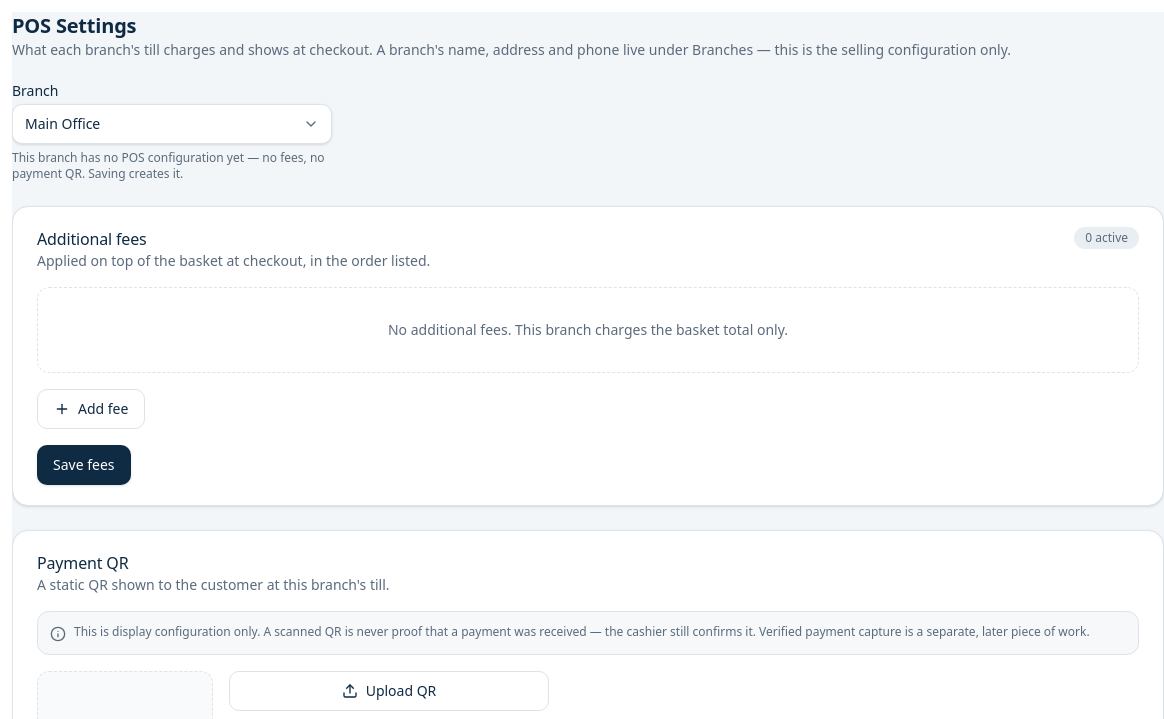
Test: editing › adds a fee locally without saving
Click the button "Add fee": (91, 409) [37, 389, 145, 429]
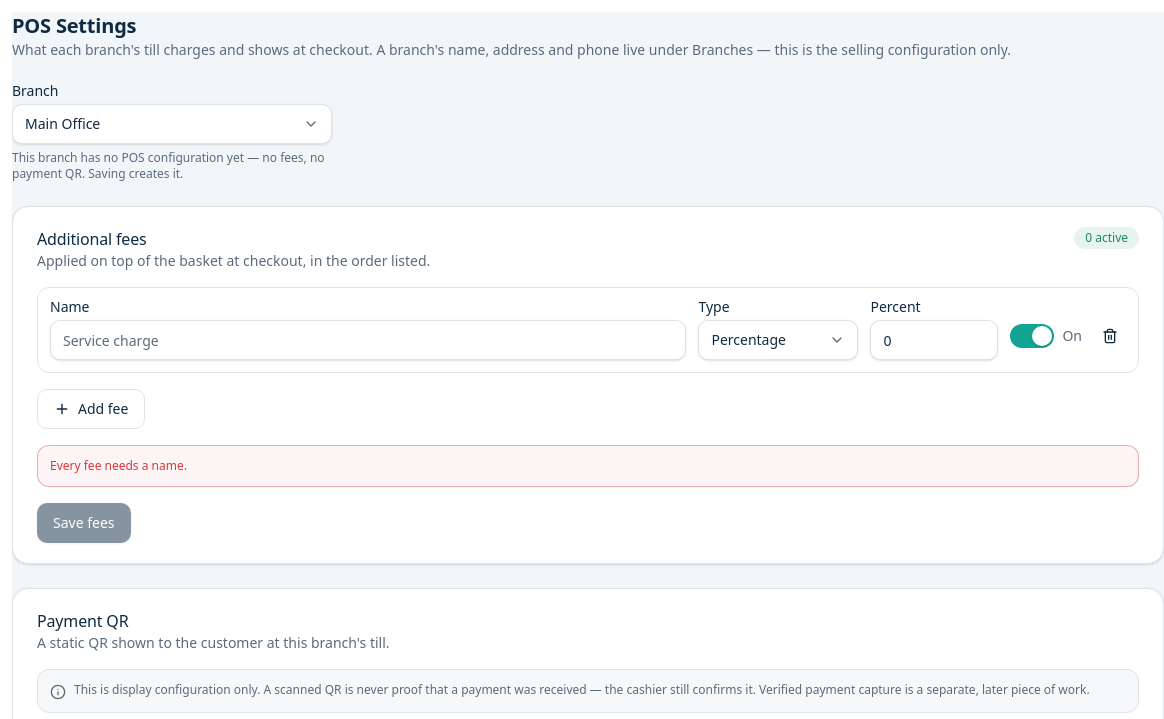
expect the text "No additional fees" is gone: met
expect the list item "Every fee needs a name." is shown: met, box [50, 457, 187, 474]
